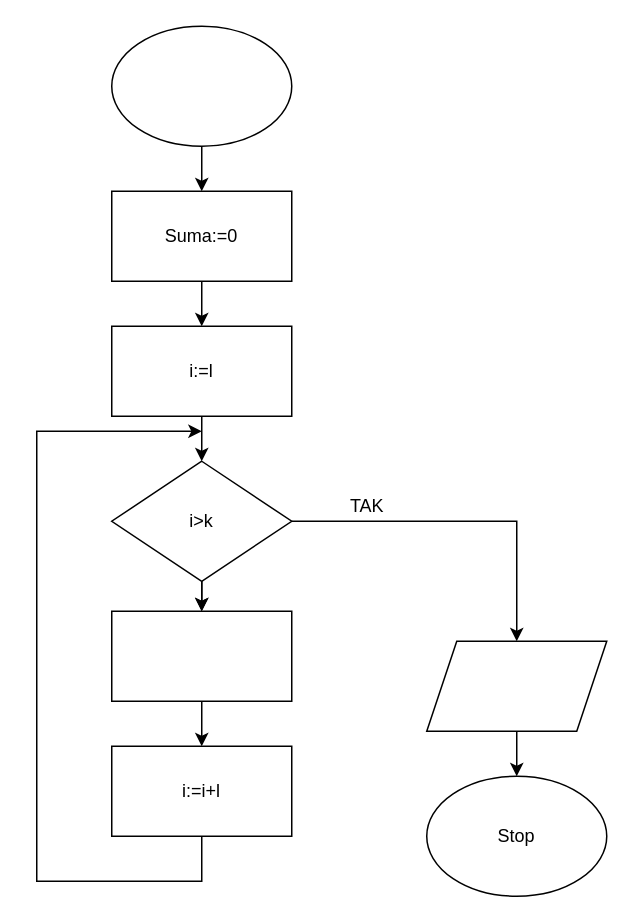
Image size: 633x923. Some labels were removed from this diagram. Each missing label, with the box of its shape:
Pisz Suma: (425, 640, 607, 731)
Start: (110, 25, 292, 146)
Suma:=Suma+t[i]: (110, 610, 292, 701)
